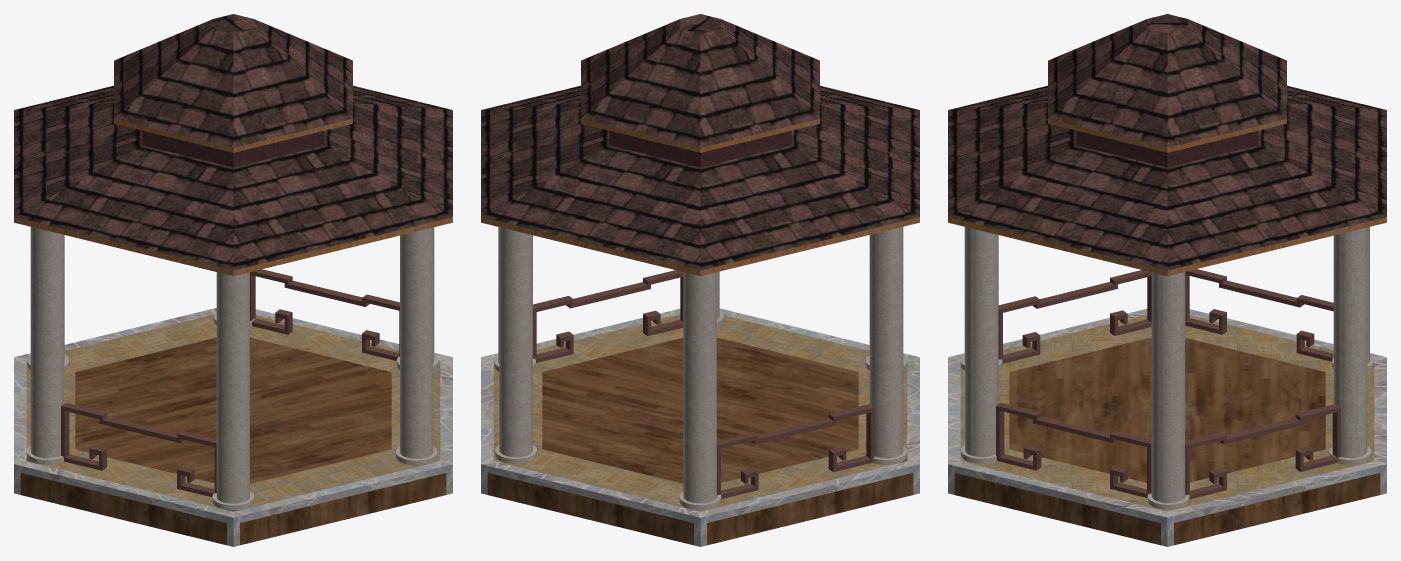
The model's file is NinjaObstacle2.fbx.
3 views of the same model, side by side, from view 1: azimuth 30°, elevation 25°; view 2: azimuth 150°, elevation 25°; view 3: azimuth 270°, elevation 25° (orthographic).
Visible parts, largest first — view 1: Group2, Group1, Group_6_1, Group_6_2; view 2: Group2, Group1, Group_6_4, Group_6_3; view 3: Group2, Group1, Group_6_3, Group_6_2, Group_6_1, Group_6_4.
Boxes of the visible parts, <box> form: Group2: <box>14,227,452,546</box>; Group1: <box>14,14,452,275</box>; Group_6_1: <box>61,402,216,496</box>; Group_6_2: <box>250,269,399,360</box>; Group2: <box>481,227,919,546</box>; Group1: <box>481,14,919,275</box>; Group_6_4: <box>717,404,874,498</box>; Group_6_3: <box>533,270,683,362</box>; Group2: <box>948,227,1386,546</box>; Group1: <box>948,14,1386,275</box>; Group_6_3: <box>996,402,1151,497</box>; Group_6_2: <box>1185,404,1340,499</box>; Group_6_1: <box>998,270,1151,363</box>; Group_6_4: <box>1185,269,1333,361</box>.
Bounding box in the file's own units: 147 × 133 × 128.
